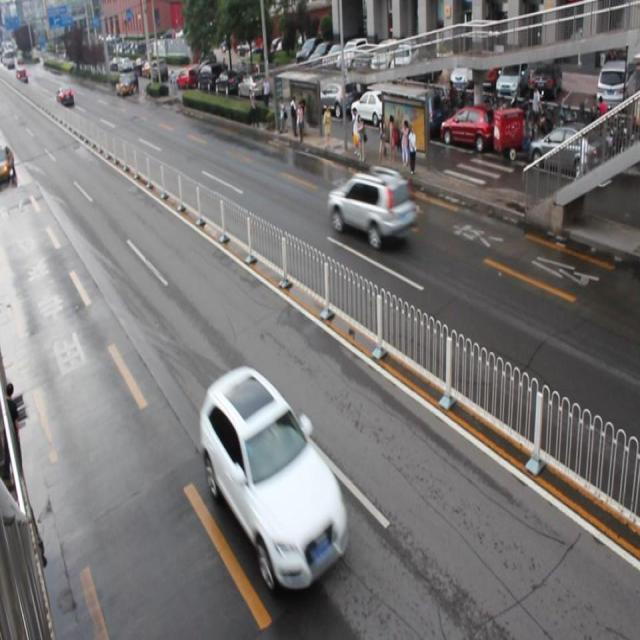car: (200, 369, 350, 591), (327, 170, 415, 251)
